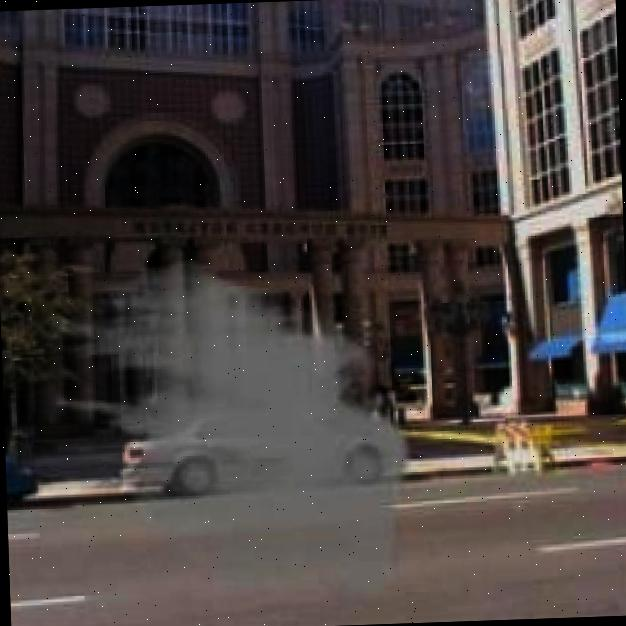smoke: (46, 247, 416, 614)
